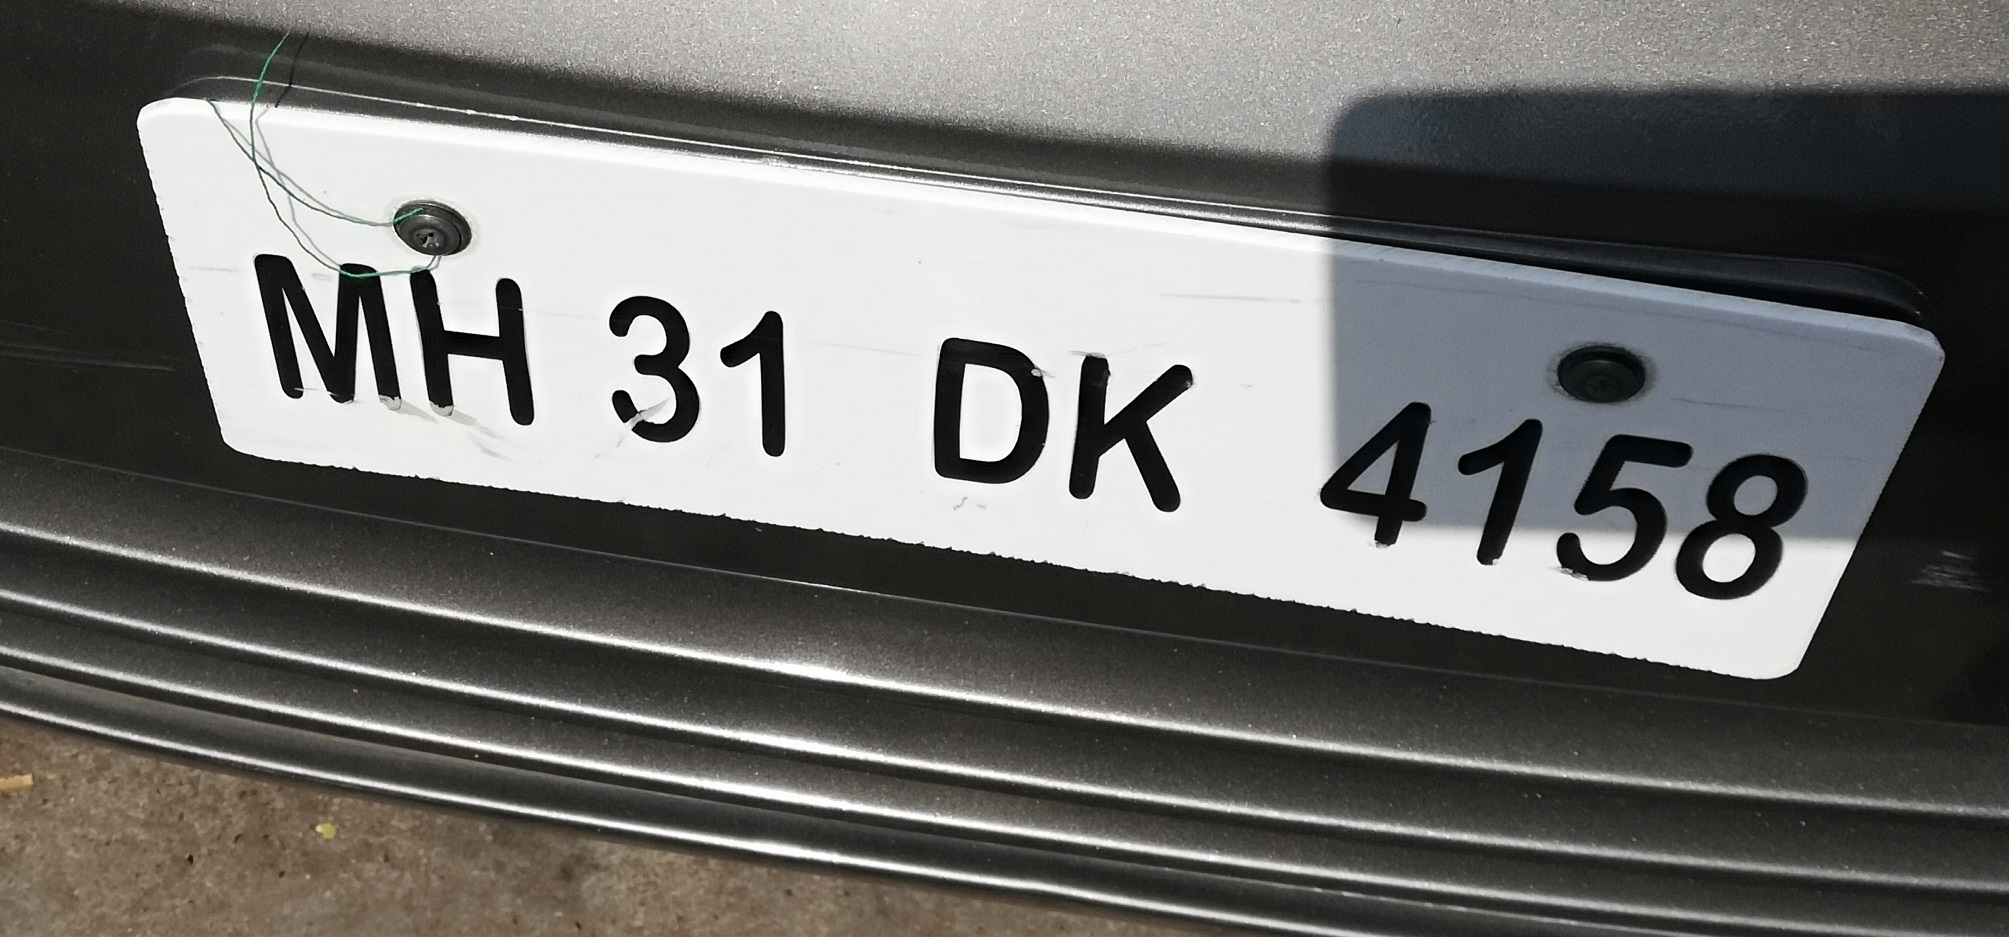numberplate: (127, 82, 1944, 688)
